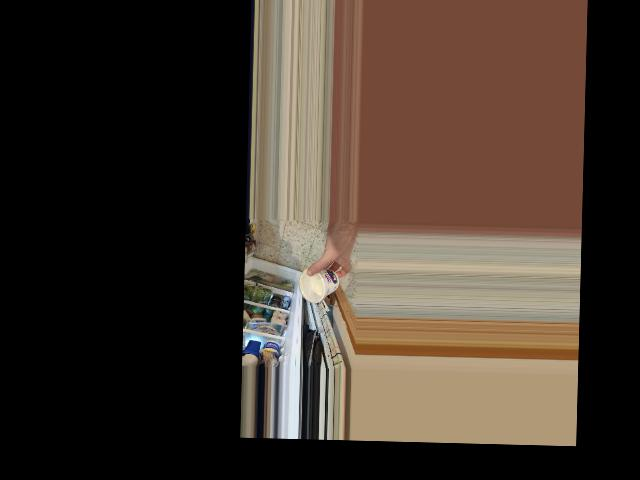cotage: (298, 264, 340, 308)
